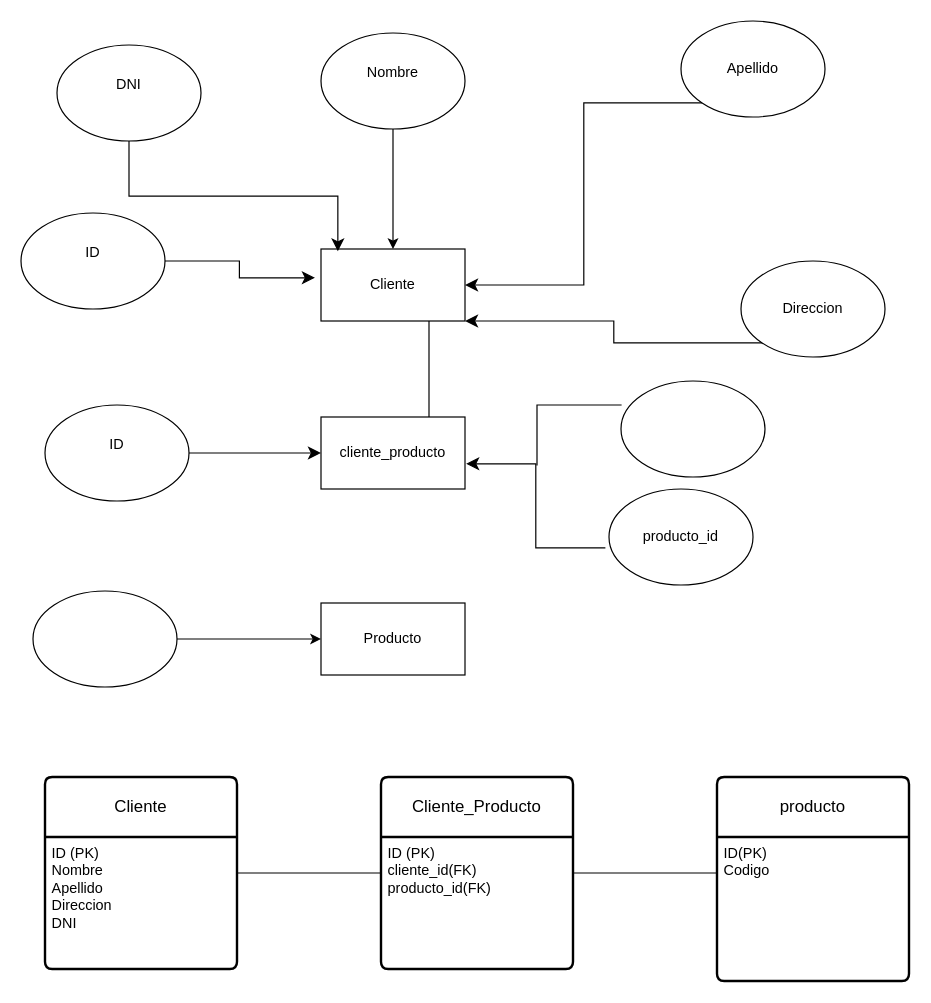
This 931x1003 diagram has some shape labels left out. Here are the shapes that lost their labels. From the top down, the box of each, then its label:
(620, 380, 765, 477): cliente_id
(32, 590, 177, 687): Codigo
